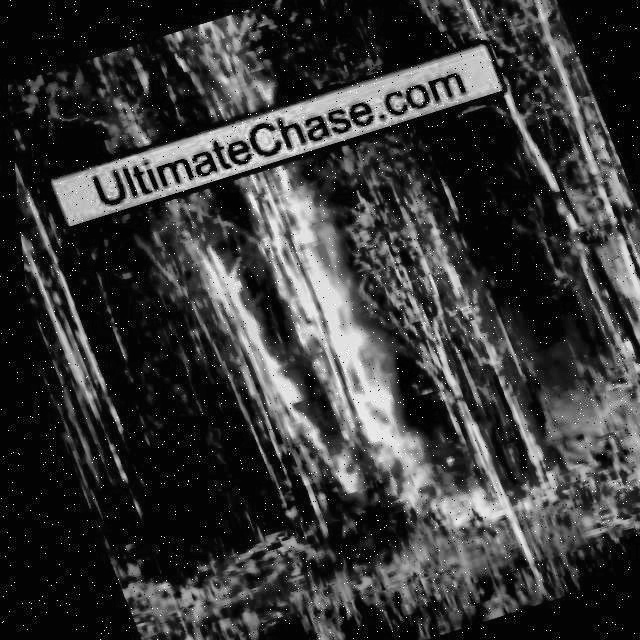Fire: (169, 149, 435, 515), (181, 25, 269, 119), (424, 480, 497, 533)
